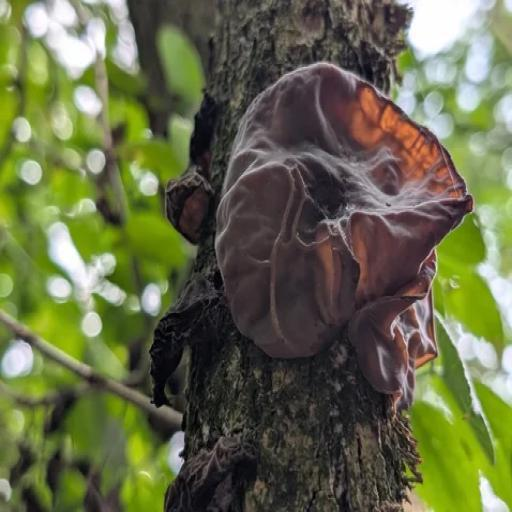mushroom: (217, 61, 475, 407), (141, 268, 224, 421), (159, 161, 222, 242)
